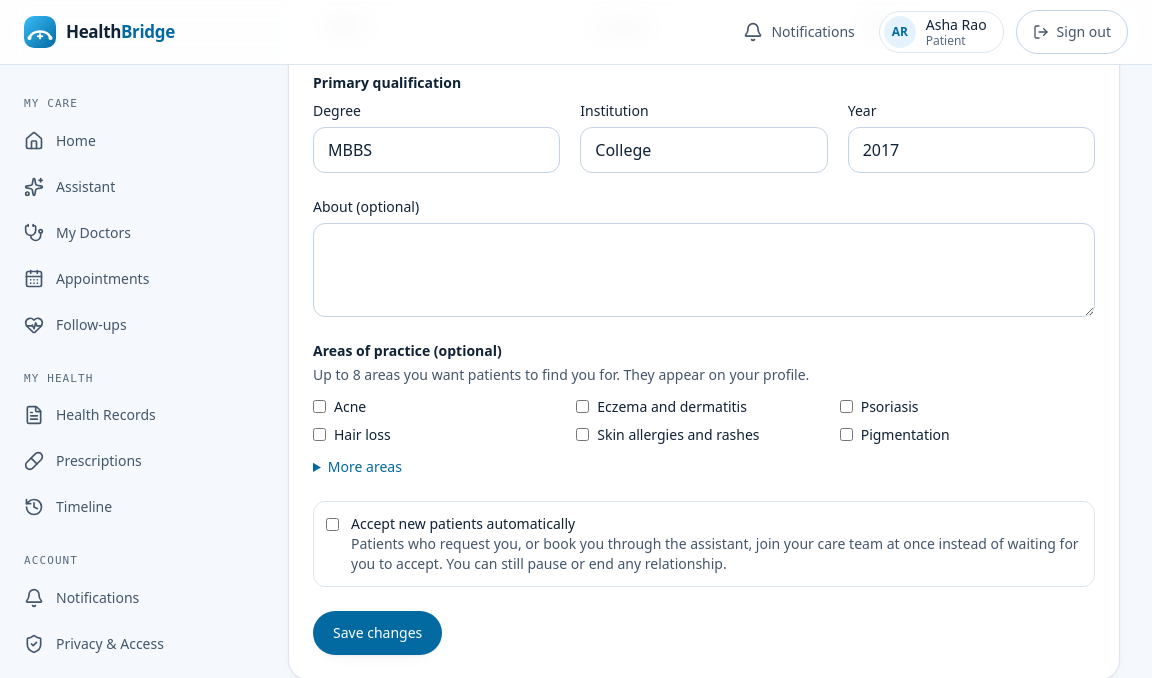
Test: doctor workspace › a doctor lists areas of practice, those of their speciality first
(page scrolled)
Click the checkbox labelled "Acne": {"x": 320, "y": 407} [313, 400, 326, 413]
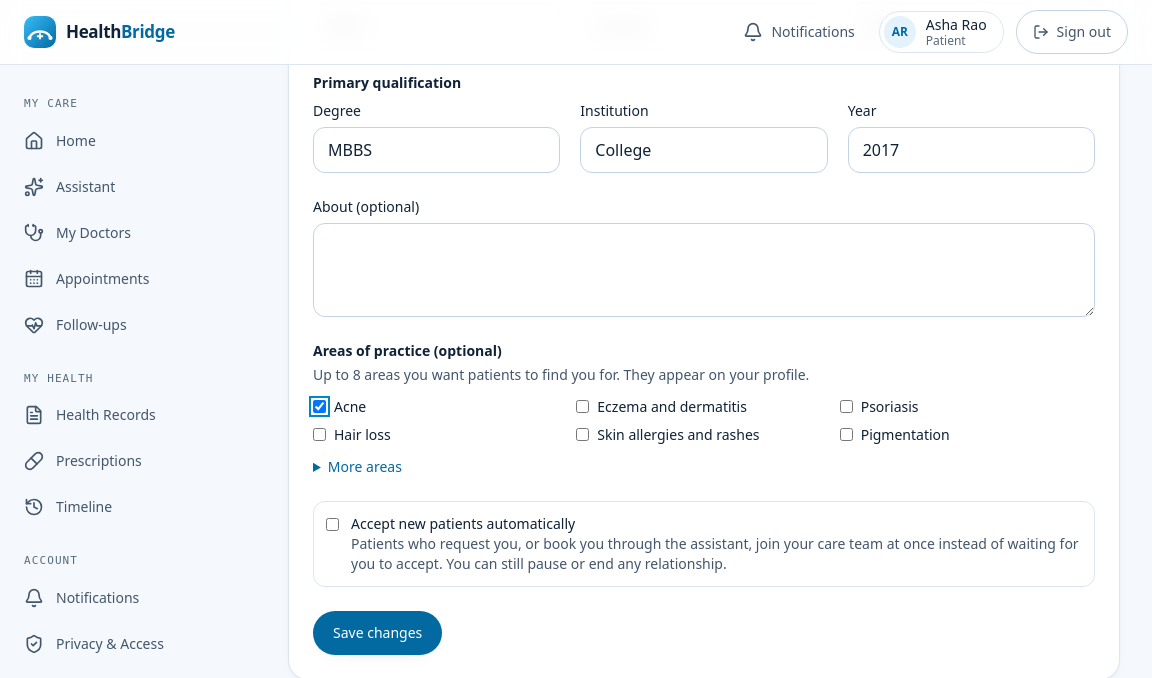
Click the button "Save changes": {"x": 378, "y": 633} [313, 611, 442, 655]
(page scrolled)
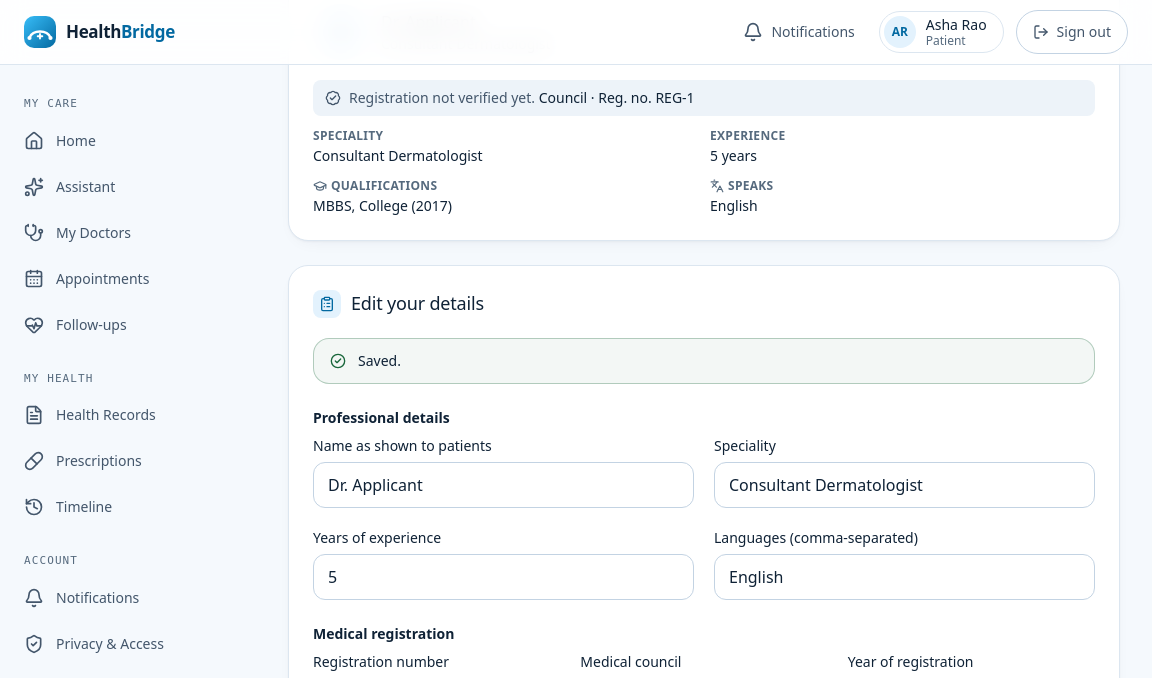
Expected: the text "Saved." is shown, [358, 351, 401, 370]
